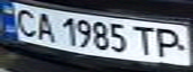1: (54, 15, 78, 46)
5: (109, 20, 130, 55)
8: (90, 19, 112, 52)
9: (72, 17, 93, 50)
A: (30, 10, 57, 43)
C: (9, 6, 42, 37)
P: (151, 26, 190, 59)
T: (130, 24, 160, 57)
